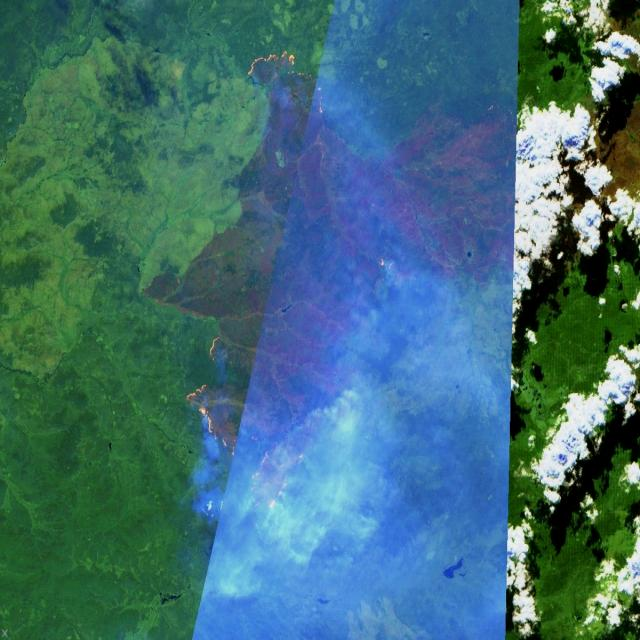fire: (178, 320, 314, 524), (238, 36, 334, 128), (368, 252, 416, 304)
